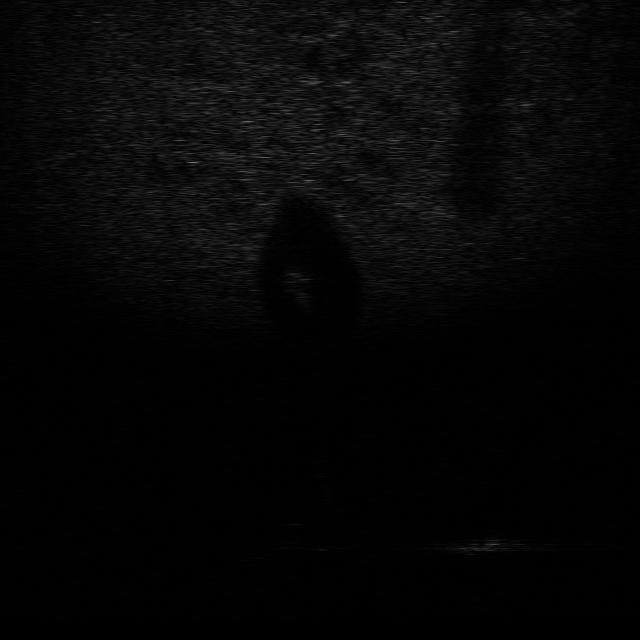ball: (300, 451, 344, 478)
metal bucket: (429, 529, 531, 558)
tyre: (261, 518, 354, 554)
